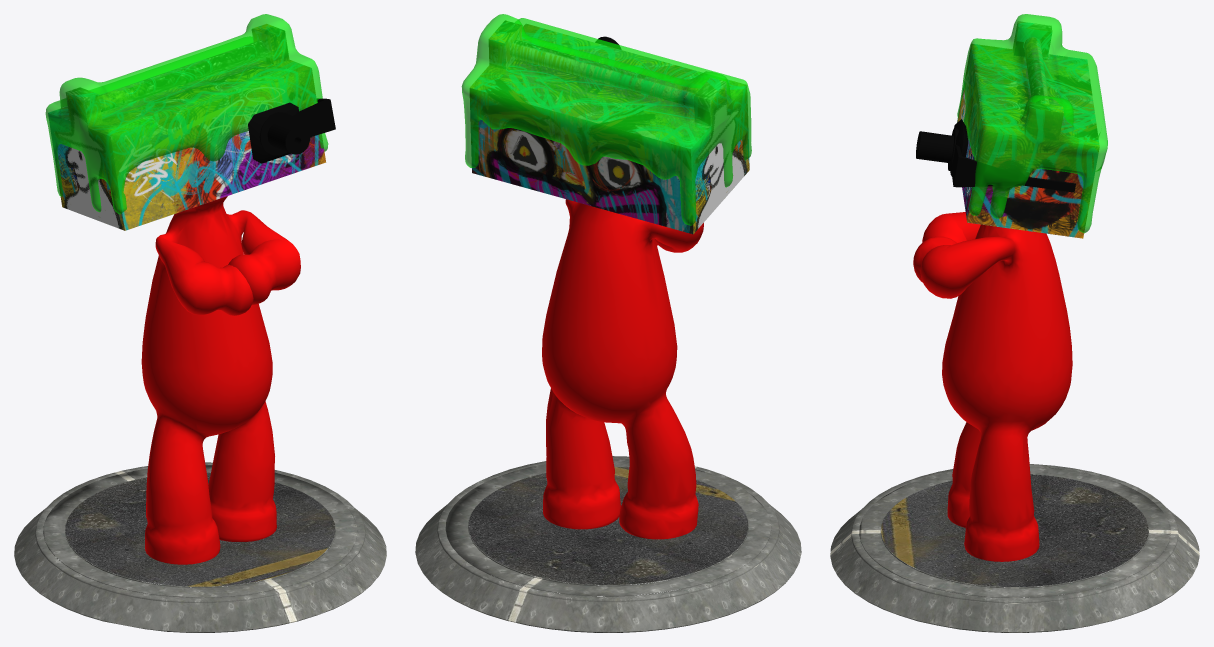
The picture shows the model from 3 angles, left to right: view 1: azimuth 30°, elevation 25°; view 2: azimuth 150°, elevation 25°; view 3: azimuth 270°, elevation 25°; orthographic projection. The views are drawn at different scales.
Visible parts, largest first — view 1: BBody; view 2: BBody; view 3: BBody.
Boxes of the visible parts, x1,y1,x2,y2 form: BBody: (14,14,386,632); BBody: (415,14,801,632); BBody: (830,14,1199,632).
Bounding box in the file's own units: 1.45 × 2.16 × 1.45.
6 materials, 3 textured.
